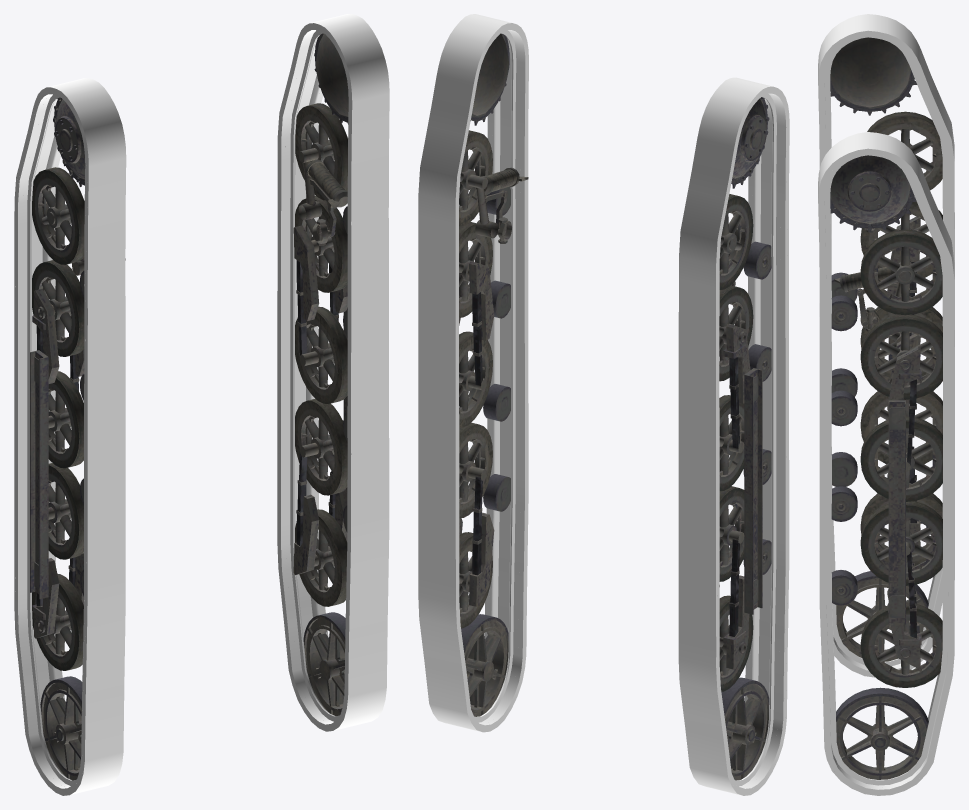
Rendered from Chassis.glb.
3 views of the same model, side by side, from view 1: azimuth 30°, elevation 25°; view 2: azimuth 150°, elevation 25°; view 3: azimuth 270°, elevation 25° (orthographic). The views are drawn at different scales.
Parts seen in each view (by area): view 1: set_2_group_0, set_3_group_0, set_1_group_0, set_0_group_0; view 2: set_2_group_0, set_3_group_0, set_1_group_0, set_0_group_0; view 3: set_0_group_0, set_2_group_0, set_1_group_0, set_3_group_0.
Part boxes in pixels (<box>): set_2_group_0: <box>277,14,389,731</box>; set_3_group_0: <box>14,78,126,795</box>; set_1_group_0: <box>30,97,125,780</box>; set_0_group_0: <box>293,33,348,715</box>; set_2_group_0: <box>418,14,528,732</box>; set_3_group_0: <box>678,77,789,795</box>; set_1_group_0: <box>719,97,771,780</box>; set_0_group_0: <box>459,33,528,716</box>; set_0_group_0: <box>830,155,942,779</box>; set_2_group_0: <box>818,132,954,795</box>; set_1_group_0: <box>830,37,942,661</box>; set_3_group_0: <box>818,14,954,677</box>.
Size of the model in its own units: 2.05 by 4.27 by 0.8188.
Materials: 4 (2 with a texture image).
